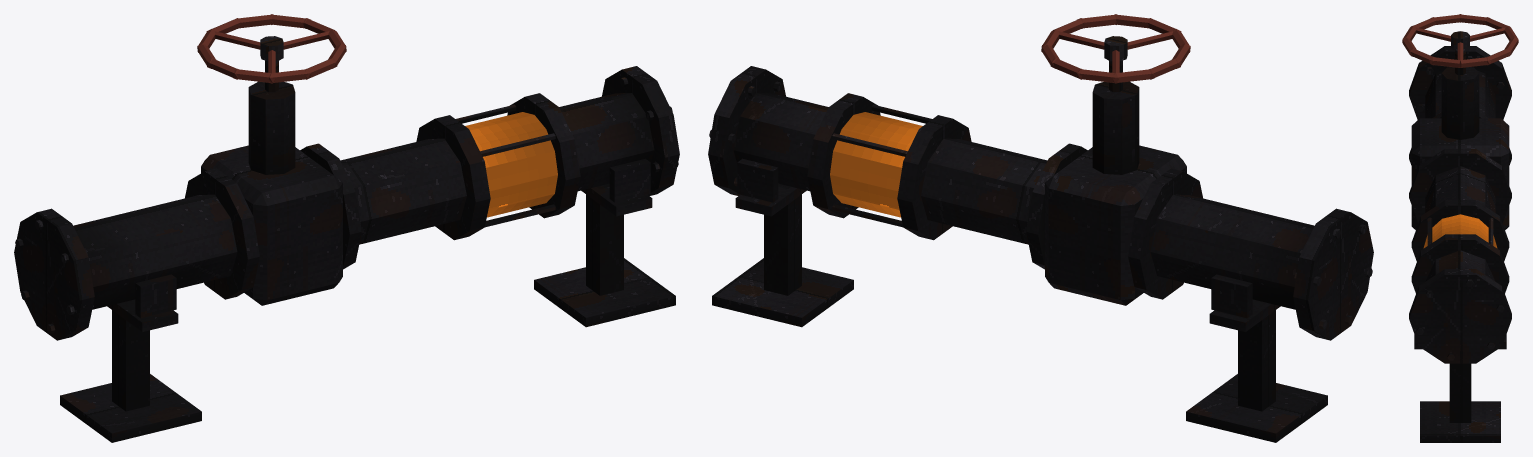
The model's file is pipe_valve.glb.
3 renders of one model, left to right at view 1: azimuth 30°, elevation 25°; view 2: azimuth 150°, elevation 25°; view 3: azimuth 270°, elevation 25°, orthographic. The views are drawn at different scales.
Parts seen in each view (by area): view 1: body; view 2: body; view 3: body.
Boxes of the visible parts, bbox=[...] form: body: bbox=[14, 14, 679, 442]; body: bbox=[708, 14, 1373, 442]; body: bbox=[1402, 14, 1518, 442].
Size of what is drawn, in the model's own units: 2.03 by 1.07 by 0.4305.
Materials: 4 (3 with a texture image).
